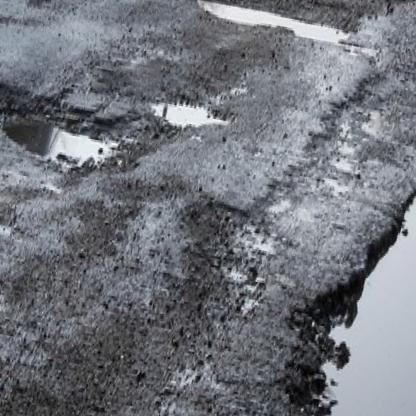pothole: (0, 76, 128, 182), (185, 0, 358, 57), (141, 89, 234, 140), (0, 263, 13, 323)
